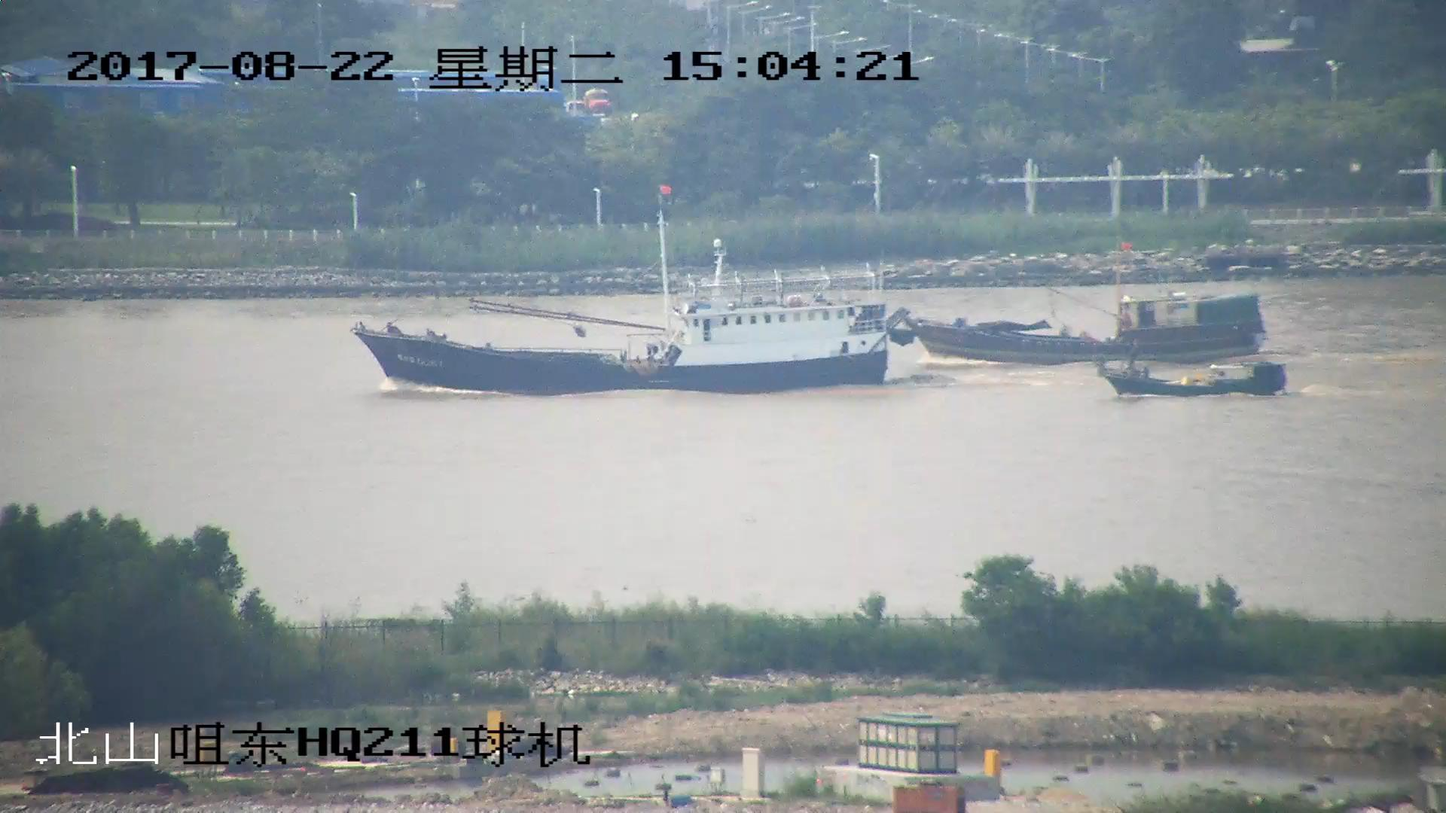fishing boat: (358, 184, 893, 389), (889, 242, 1268, 364), (1098, 348, 1286, 400)
